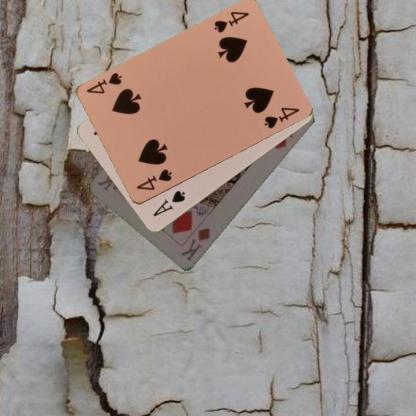4s: (134, 166, 174, 192), (211, 8, 250, 34)
As: (150, 188, 187, 218)
Kd: (178, 225, 211, 263)
